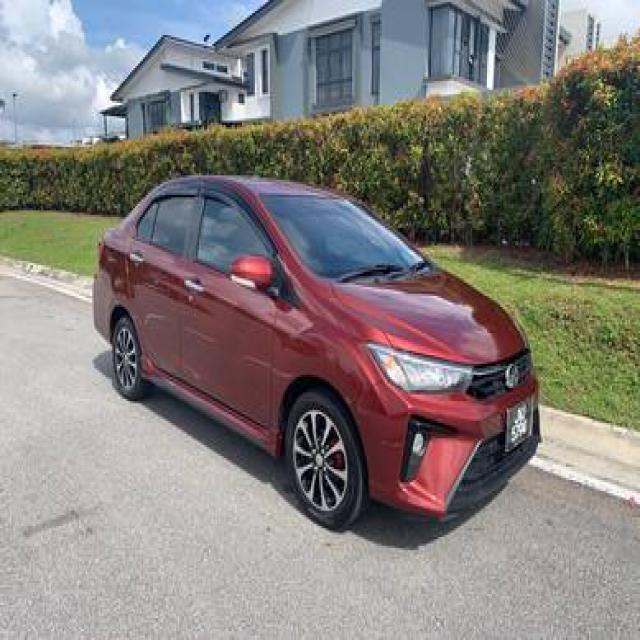PeroduaBezza: (91, 172, 542, 531)
